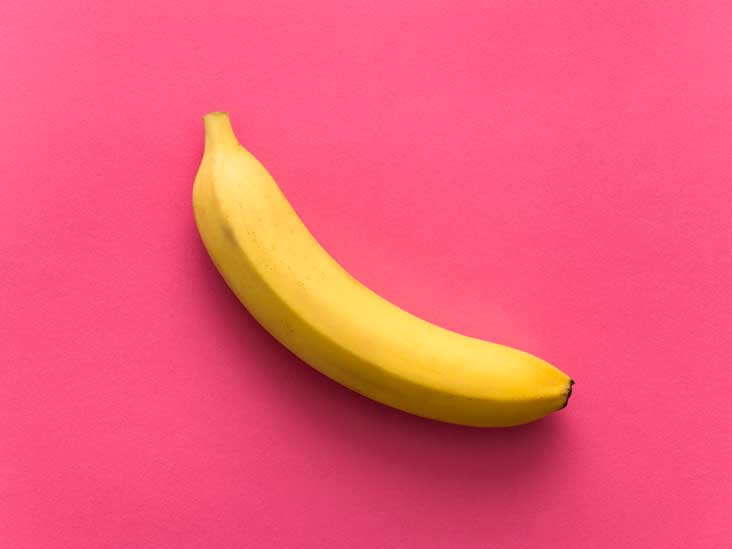banana: (203, 115, 584, 452)
